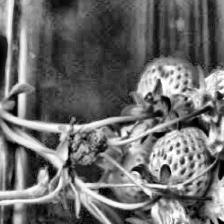Gray Mold: (45, 116, 110, 182)
